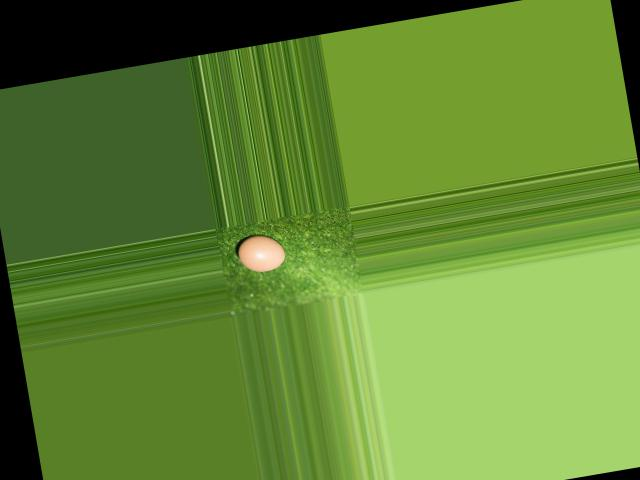egg: (235, 230, 288, 274)
